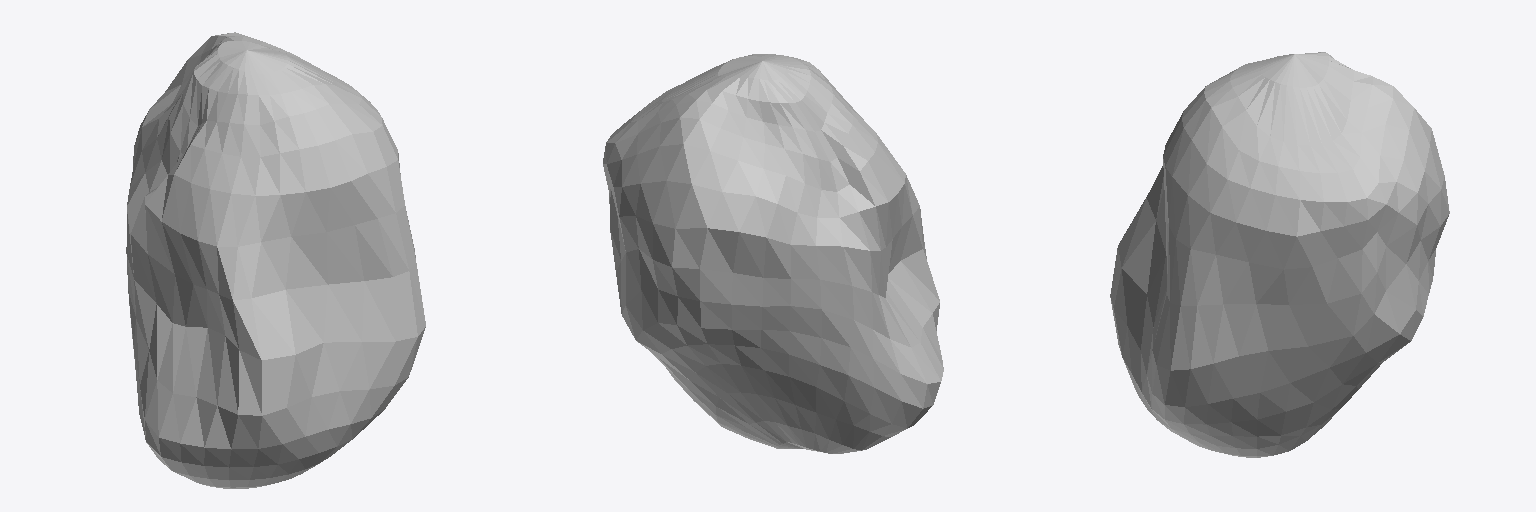
Rendered from meteorito.obj.
The picture shows the model from 3 angles: view 1: azimuth 30°, elevation 25°; view 2: azimuth 150°, elevation 25°; view 3: azimuth 270°, elevation 25°; orthographic projection.
Parts seen in each view (by area): view 1: Esfera; view 2: Esfera; view 3: Esfera.
Part boxes in pixels (x1,y1,x2,y2): Esfera: (126,32,425,488); Esfera: (603,54,943,453); Esfera: (1110,52,1449,457).
Bounding box in the file's own units: 2.1 × 2.98 × 2.28.